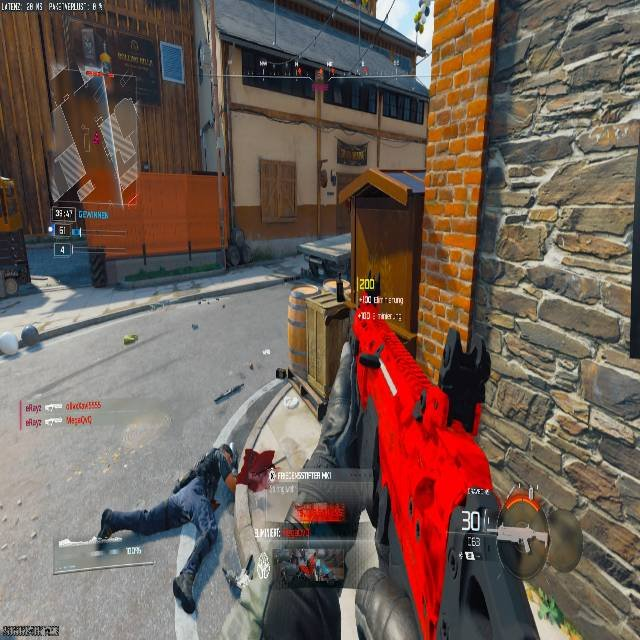player: (98, 288, 450, 640), (96, 442, 275, 619)
